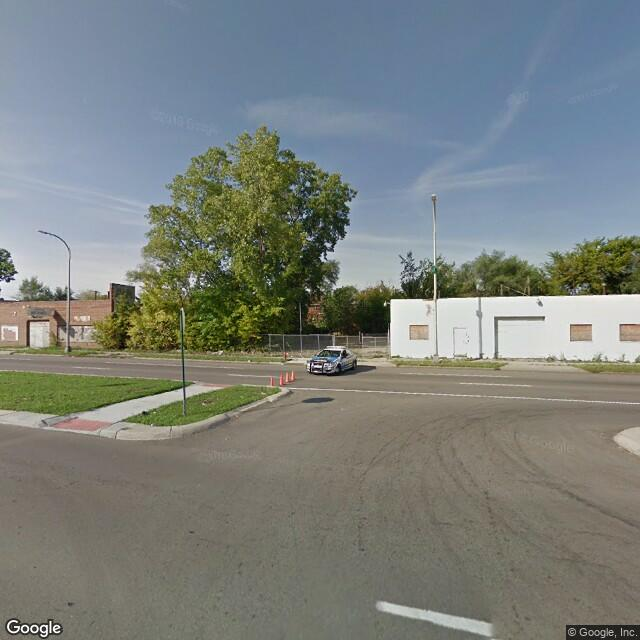litter: (247, 358, 253, 365), (140, 408, 147, 413), (149, 421, 153, 425)
